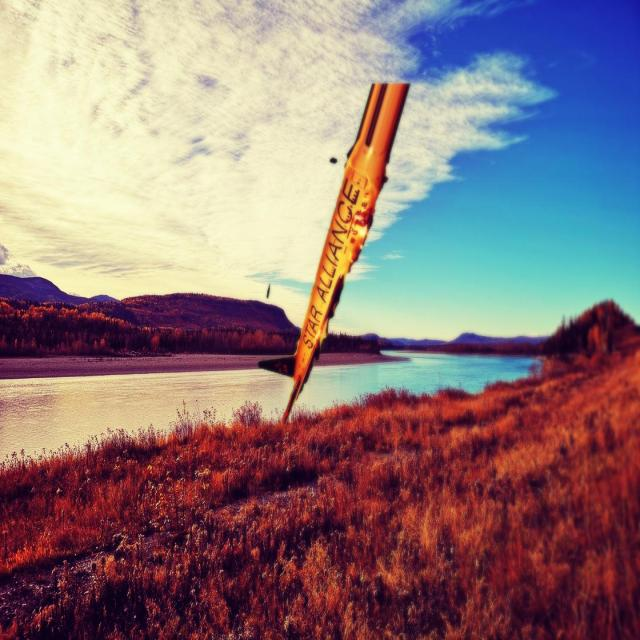airplane: (257, 80, 410, 424)
